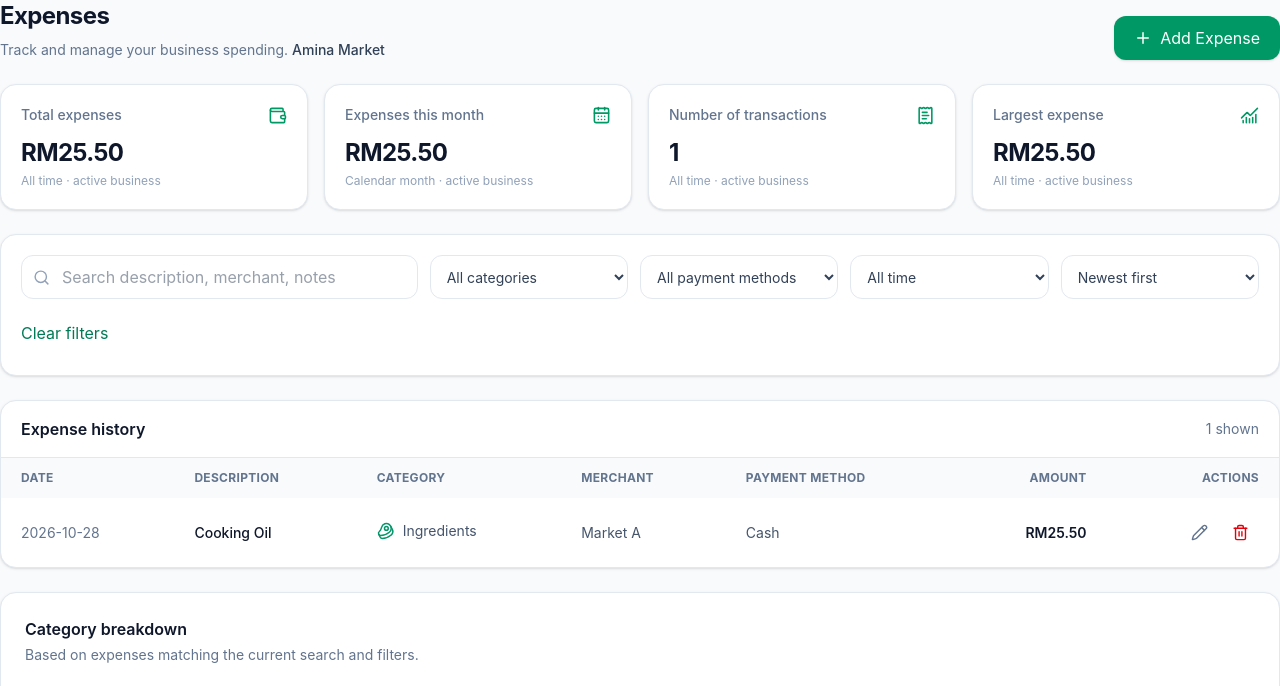
Scenario: expense tracker interactions › requires confirmation, supports cancel, and deletes the selected expense
Click the button named "Delete Cooking Oil" at (1240, 532), box [1222,514,1259,551]
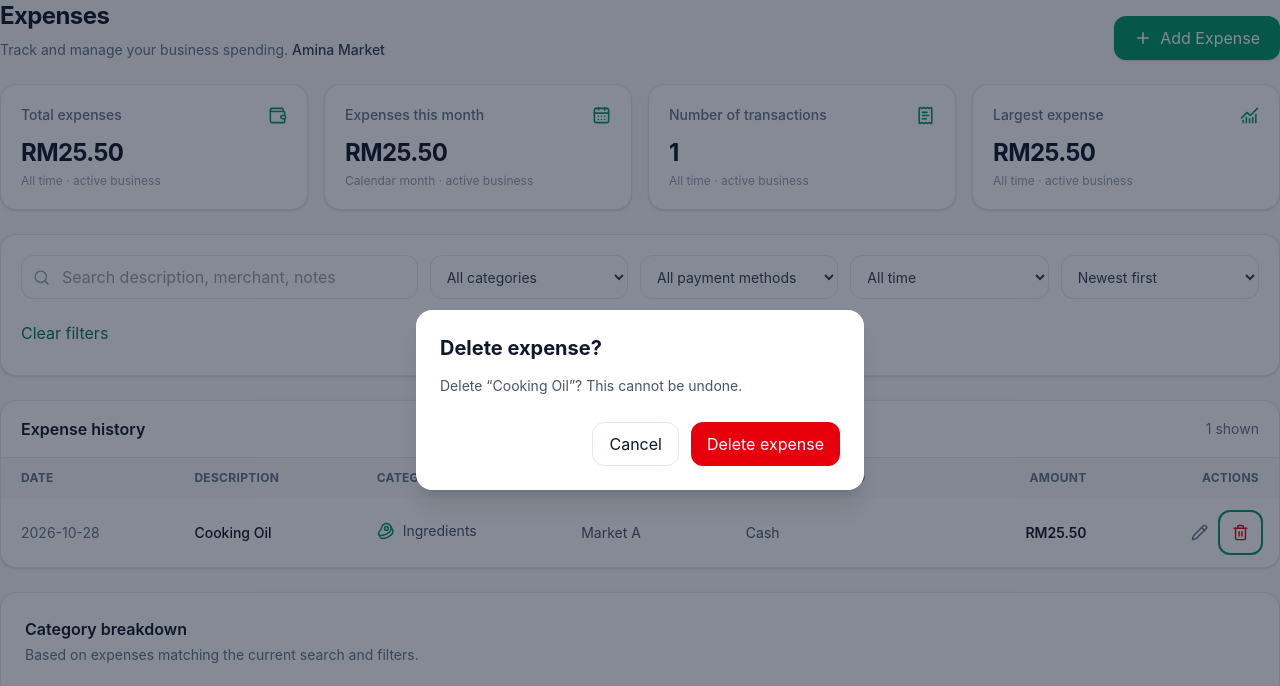
Check: the text "Delete “Cooking Oil”? This cannot be undone." is shown, box [440,377,742,394]
Click the button "Cancel" at (636, 444), box [592,422,679,466]
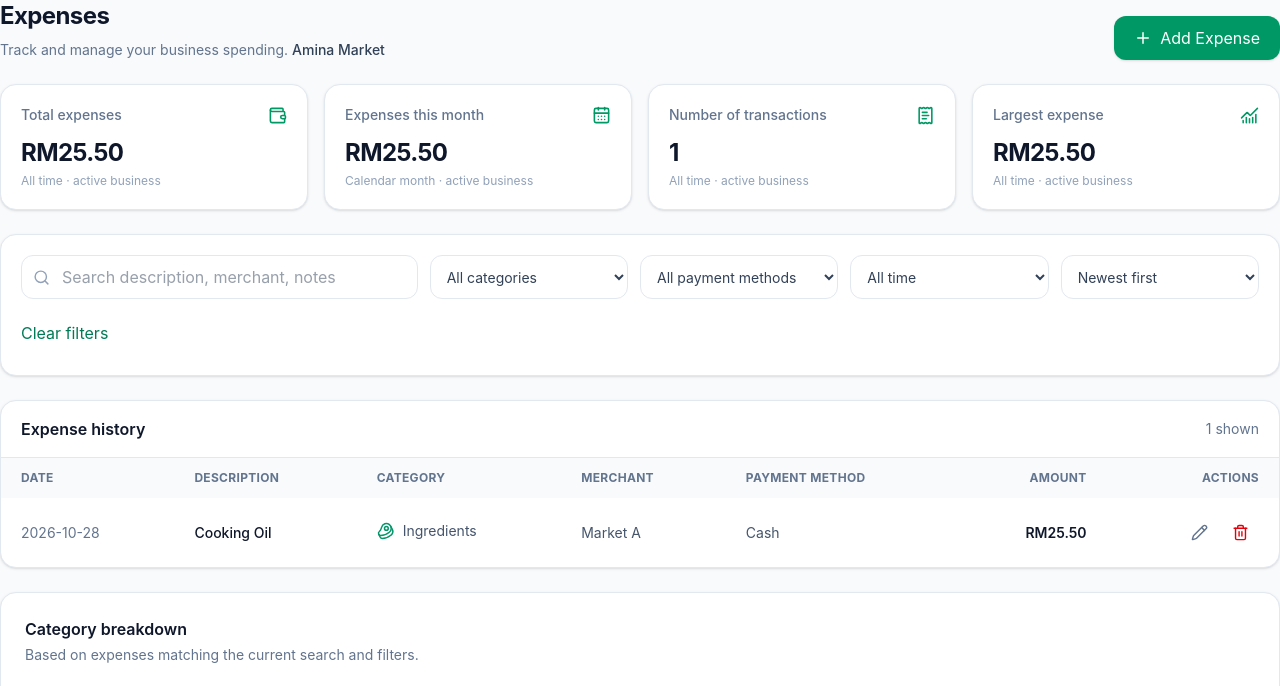
Click the button named "Delete Cooking Oil" at (1240, 532), box [1222,514,1259,551]
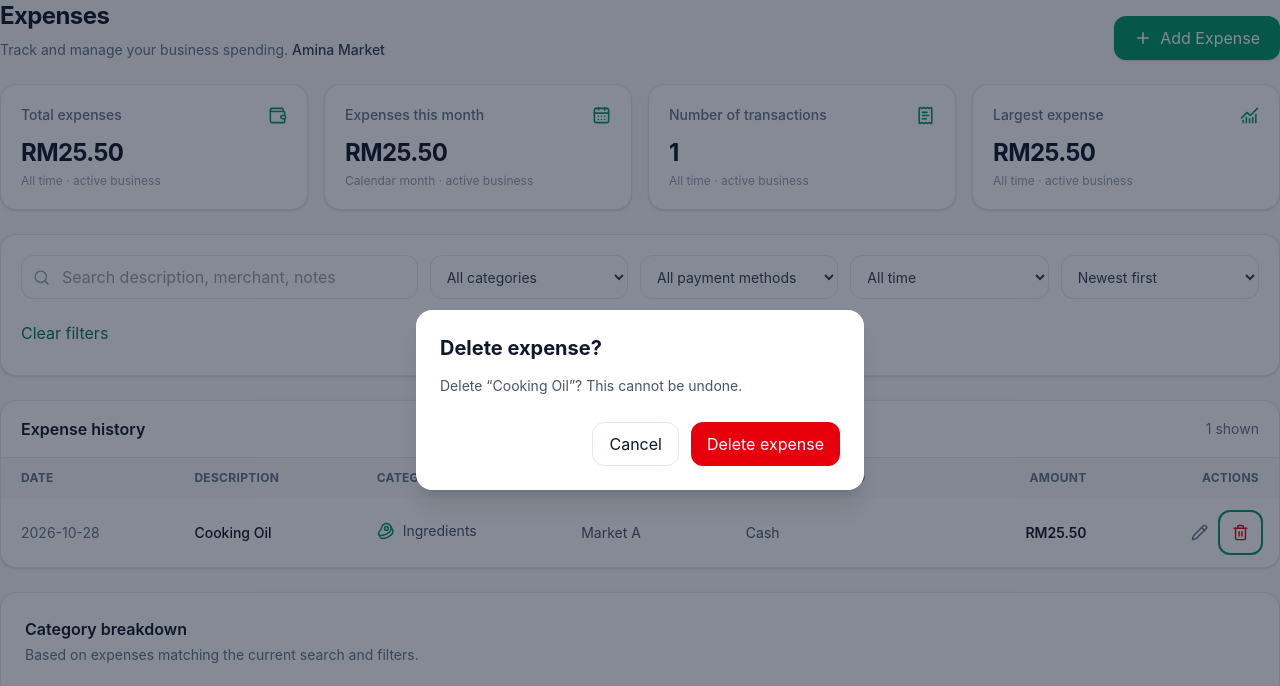
Click the button "Delete expense" at (766, 444), box [691,422,840,466]
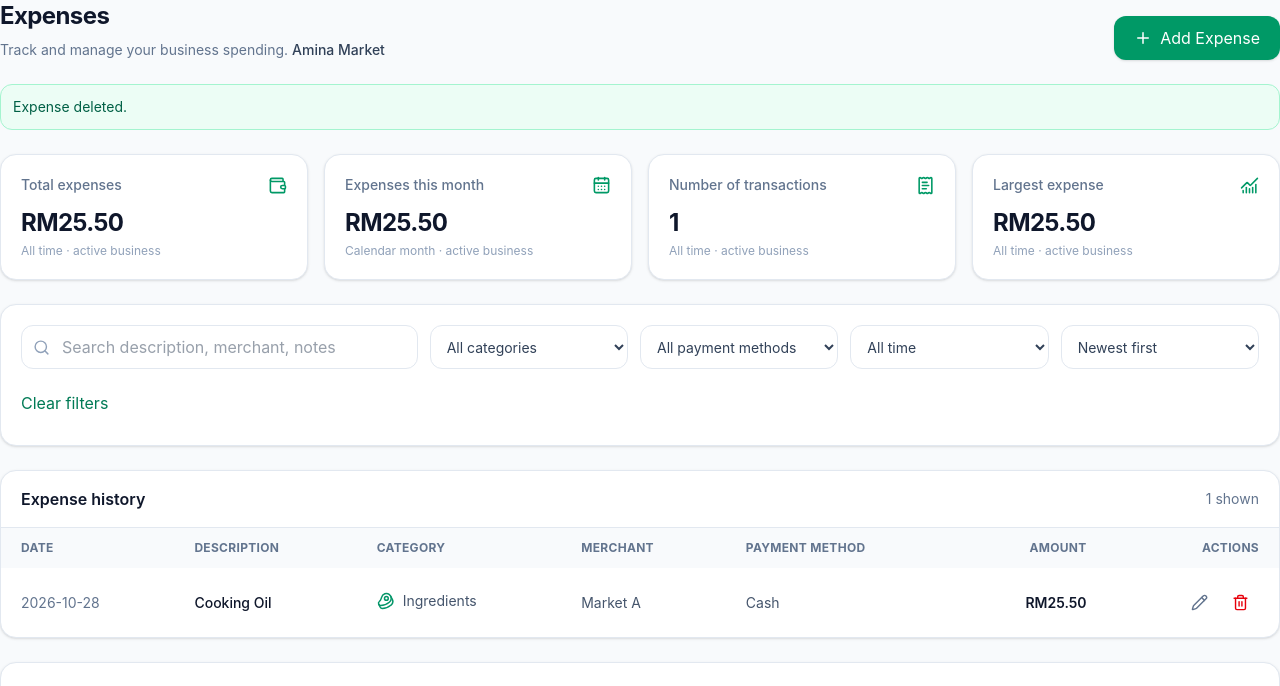
Check: the text "Expense deleted." is shown, box [0,84,1279,130]
